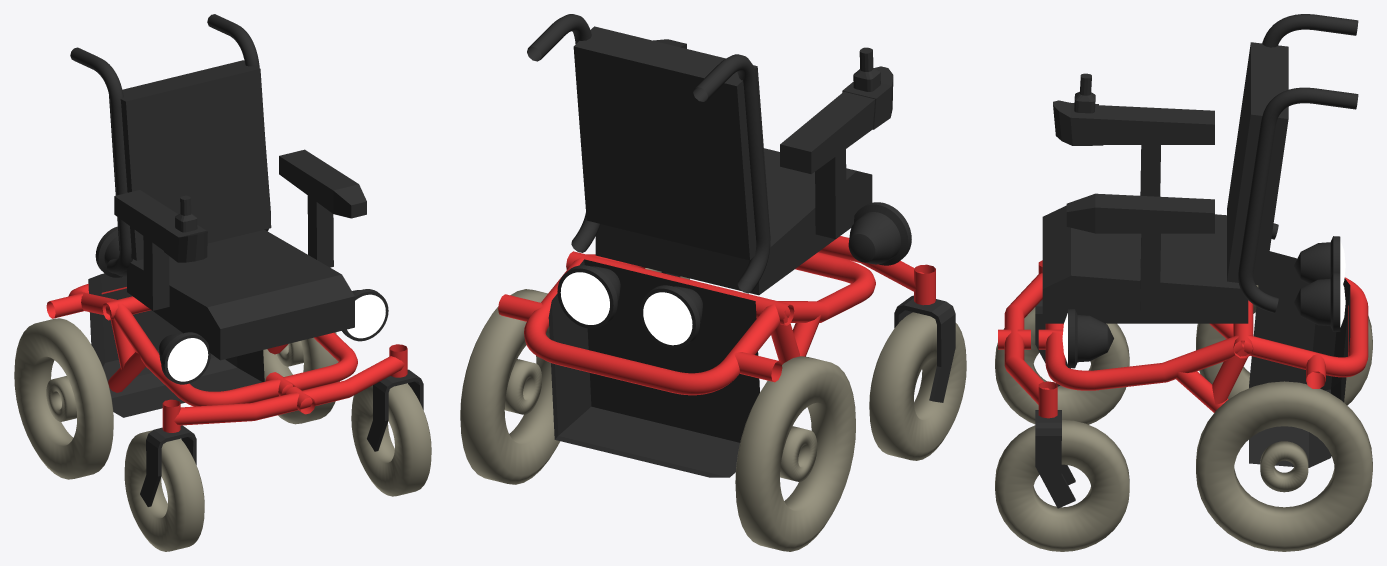
File: chaiseroulante1.gltf
3 views of the same model, side by side, from view 1: azimuth 30°, elevation 25°; view 2: azimuth 150°, elevation 25°; view 3: azimuth 270°, elevation 25° (orthographic). The views are drawn at different scales.
Parts seen in each view (by area): view 1: Object_2, Object_5, Object_3, Object_4; view 2: Object_2, Object_5, Object_3, Object_4; view 3: Object_2, Object_5, Object_3, Object_4.
Boxes of the visible parts, x1=… form: Object_2: x1=70, y1=14, x2=423, y2=506; Object_5: x1=14, y1=318, x2=431, y2=551; Object_3: x1=46, y1=284, x2=407, y2=432; Object_4: x1=167, y1=294, x2=385, y2=381; Object_2: x1=527, y1=14, x2=955, y2=477; Object_5: x1=460, y1=268, x2=966, y2=551; Object_3: x1=498, y1=236, x2=935, y2=395; Object_4: x1=560, y1=272, x2=692, y2=345; Object_2: x1=1035, y1=14, x2=1358, y2=508; Object_5: x1=995, y1=285, x2=1372, y2=551; Object_3: x1=998, y1=260, x2=1368, y2=418; Object_4: x1=1062, y1=240, x2=1345, y2=363.
Size of the model in its own units: 0.7387 by 1.05 by 0.8257.
